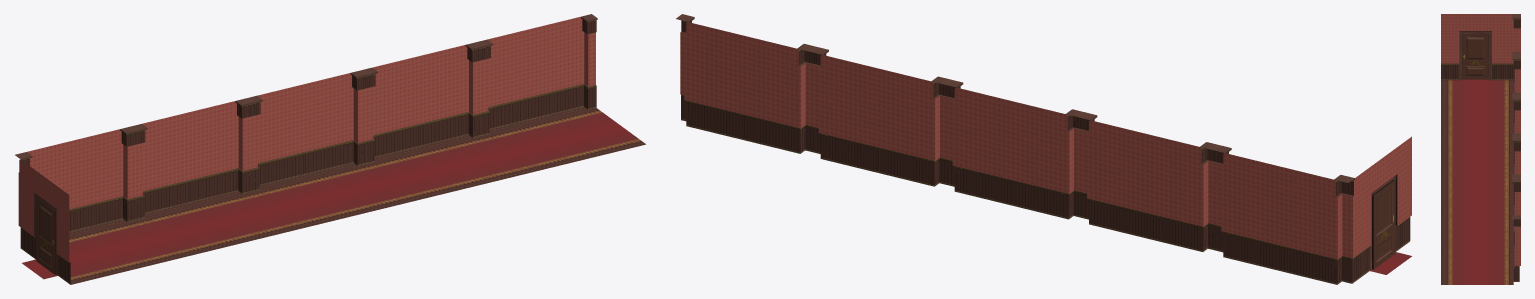
File: hall.glb
3 views of the same model, side by side, from view 1: azimuth 30°, elevation 25°; view 2: azimuth 150°, elevation 25°; view 3: azimuth 270°, elevation 25° (orthographic). The views are drawn at different scales.
Visible parts, largest first — view 1: Hall; view 2: Hall; view 3: Hall.
Part boxes in pixels (<box>): Hall: <box>15,14,645,284</box>; Hall: <box>676,14,1411,284</box>; Hall: <box>1441,14,1520,284</box>.
Size of the model in its own units: 41 by 6 by 6.59.
4 materials, 4 textured.
